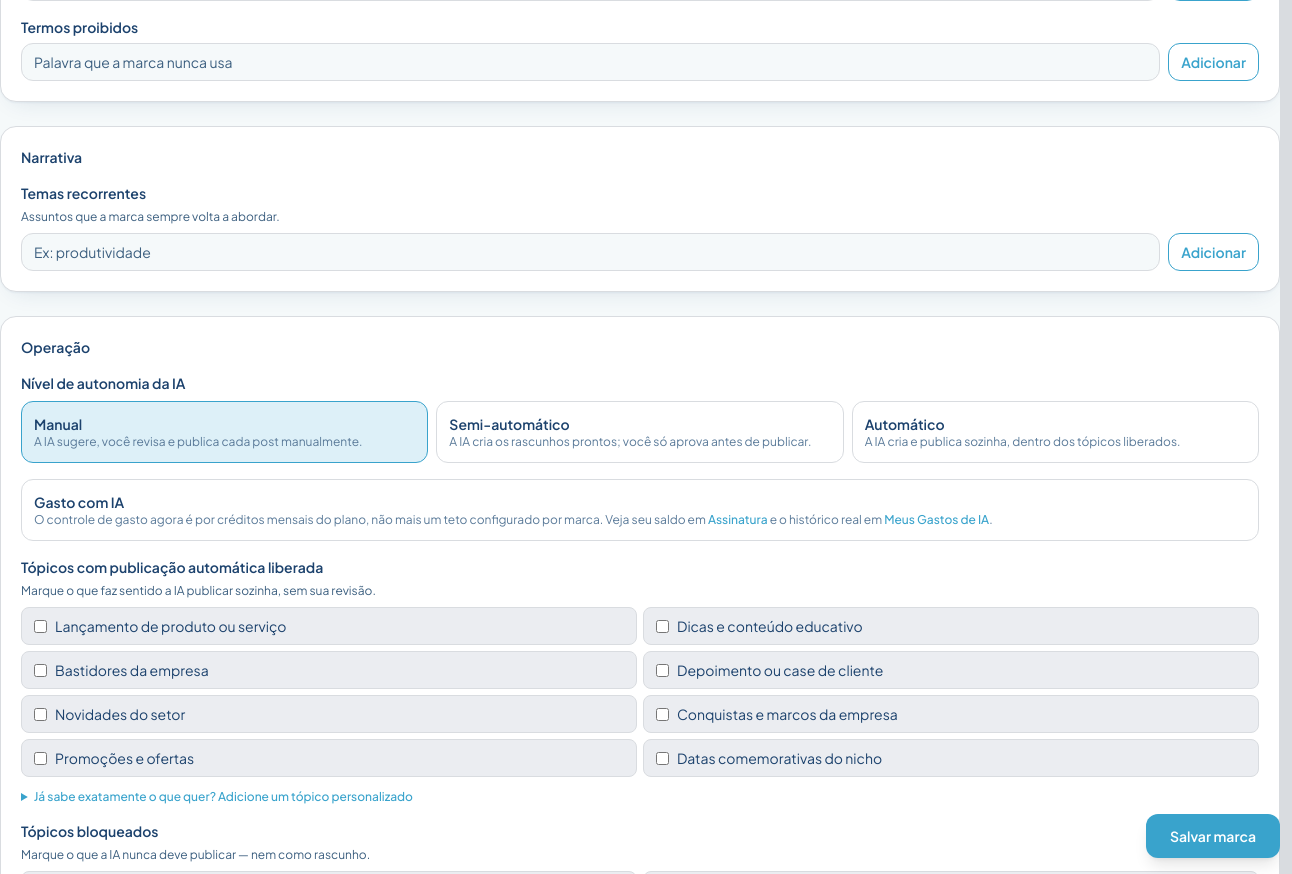
it: BrandSettingsPage - guardrail de posts automáticos por dia › mostra o campo assim que "Automático" é selecionado, e some ao voltar para manual
This screenshot has width=1292, height=874.
(page scrolled)
Click the text "Automático". click: (905, 424)
box: [865,415,945,433]
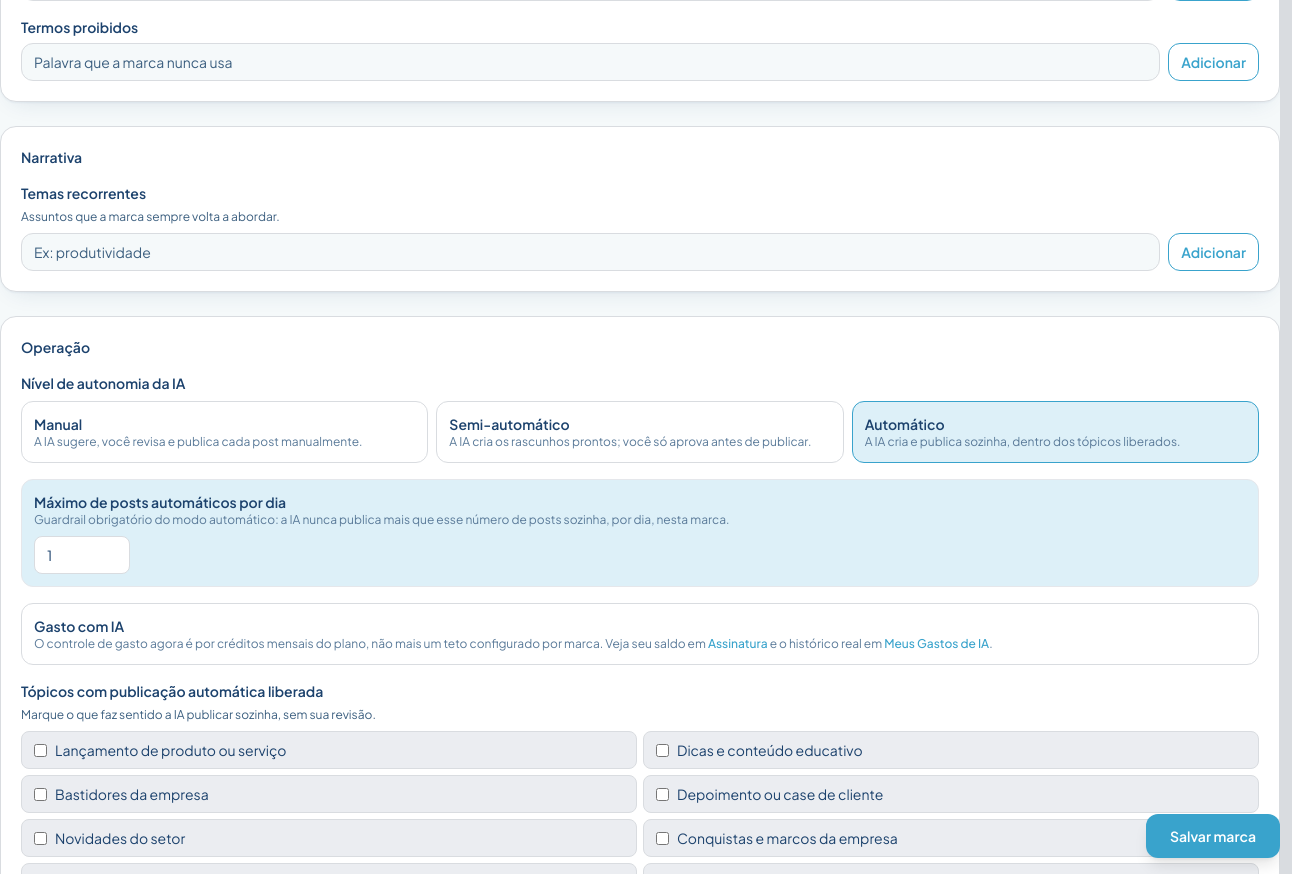
Result: the number field labelled "Máximo de posts automáticos por dia" is shown at [34,536,130,574]
Click the text "Manual". click: (58, 424)
box: [34,415,82,433]
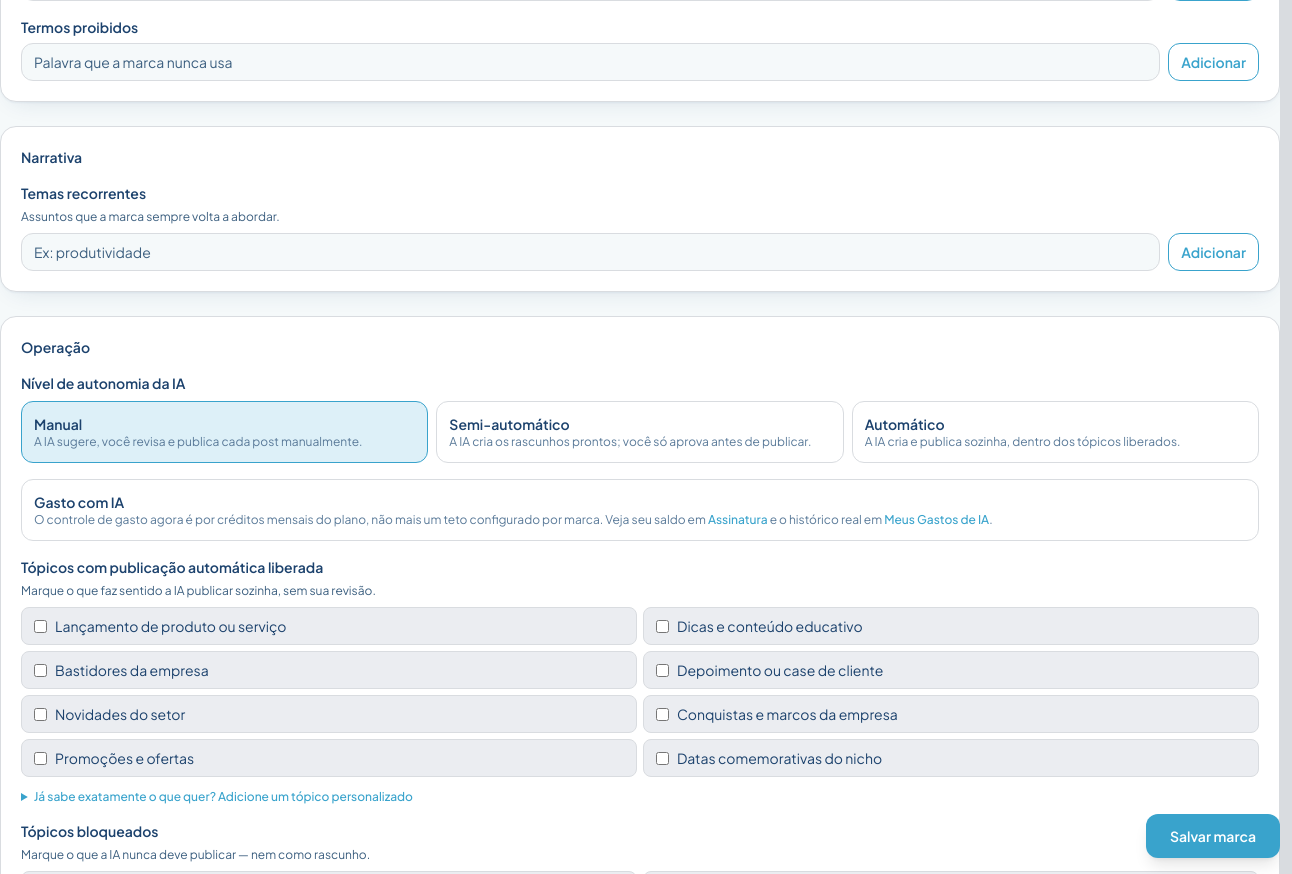
Result: the label labelled "Máximo de posts automáticos por dia" is gone
